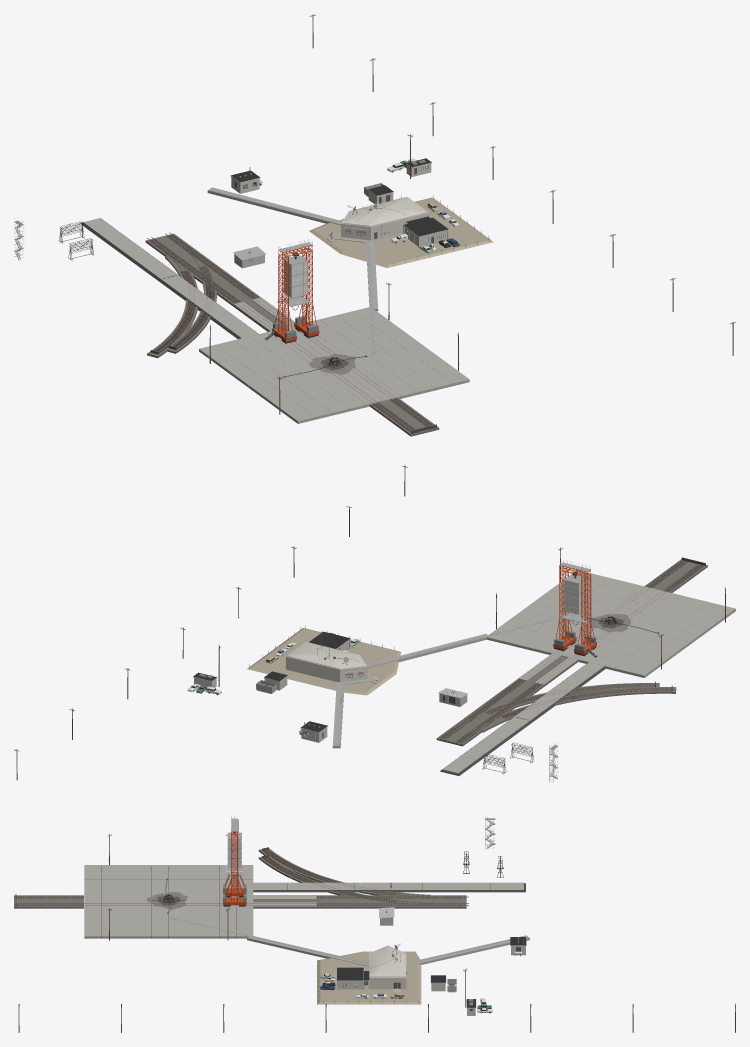
The model's file is surroundings.lod1.glb.
3 views of the same model, one above another, from view 1: azimuth 30°, elevation 25°; view 2: azimuth 150°, elevation 25°; view 3: azimuth 270°, elevation 25° (orthographic). The views are drawn at different scales.
Parts seen in each view (by area): view 1: Pad6_Concrete, Track_Ballast, Blockhouse_Shell, Track_Tie, Road_Concrete, Pad6Gantry_Red, Track_Rail, Blockhouse_BunkerRoof, CableTrenches_ConcreteTrench, Track_BallastSpur, Blockhouse_Bunker, Road_Joint (+2 smaller); view 2: Pad6_Concrete, Track_Ballast, Blockhouse_Shell, Track_Tie, Road_Concrete, Track_Rail, Pad6Gantry_Red, Track_BallastSpur, Blockhouse_BunkerRoof, Blockhouse_Bunker, CableTrenches_ConcreteTrench, Track_Concrete (+2 smaller); view 3: Pad6_Concrete, Track_Ballast, Blockhouse_Shell, Road_Concrete, Track_Rail, Track_Tie, Track_BallastSpur, CableTrenches_ConcreteTrench, Blockhouse_BunkerRoof, Pad6Gantry_Red, Road_Joint, Track_Concrete (+6 smaller).
Part boxes in pixels (x1,y1,x2,y2): Pad6_Concrete: (199,307,469,423); Track_Ballast: (145,233,439,436); Blockhouse_Shell: (309,197,493,267); Track_Tie: (148,234,437,433); Road_Concrete: (83,218,258,337); Pad6Gantry_Red: (272,245,319,341); Track_Rail: (147,232,432,430); Blockhouse_BunkerRoof: (342,197,427,225); CableTrenches_ConcreteTrench: (207,187,378,311); Track_BallastSpur: (147,256,216,358); Blockhouse_Bunker: (341,197,429,240); Road_Joint: (80,218,258,338); Pad6_Concrete: (486,570,735,677); Track_Ballast: (436,559,707,746); Blockhouse_Shell: (247,628,401,695); Track_Tie: (439,557,705,743); Road_Concrete: (443,662,604,773); Track_Rail: (438,560,703,744); Pad6Gantry_Red: (553,565,596,654); Track_BallastSpur: (482,683,676,732); Blockhouse_BunkerRoof: (288,642,366,668); Blockhouse_Bunker: (286,642,367,682); CableTrenches_ConcreteTrench: (332,633,487,748); Track_Concrete: (518,653,577,684); Pad6_Concrete: (84,865,253,938); Track_Ballast: (14,895,466,908); Blockhouse_Shell: (317,951,421,1004); Road_Concrete: (253,882,523,889); Track_Rail: (16,849,468,905); Track_Tie: (14,847,464,906); Track_BallastSpur: (258,848,430,895); CableTrenches_ConcreteTrench: (247,935,529,966); Blockhouse_BunkerRoof: (370,945,405,976); Pad6Gantry_Red: (223,819,246,905); Road_Joint: (253,883,525,892); Track_Concrete: (253,895,316,906).
Size of the model in its own units: 157 by 34.28 by 260.
